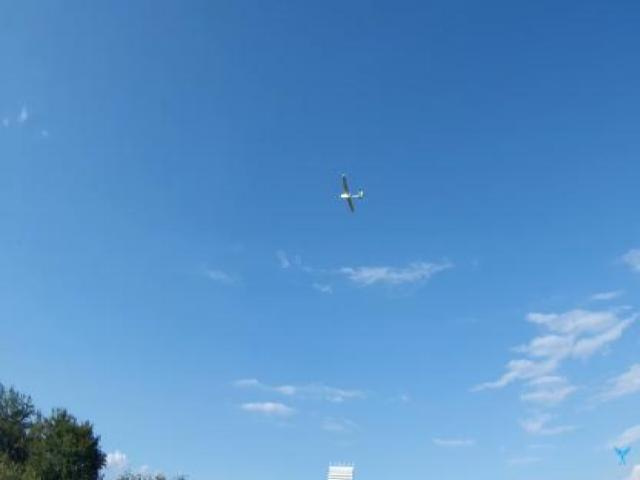uav: (330, 164, 372, 220)
